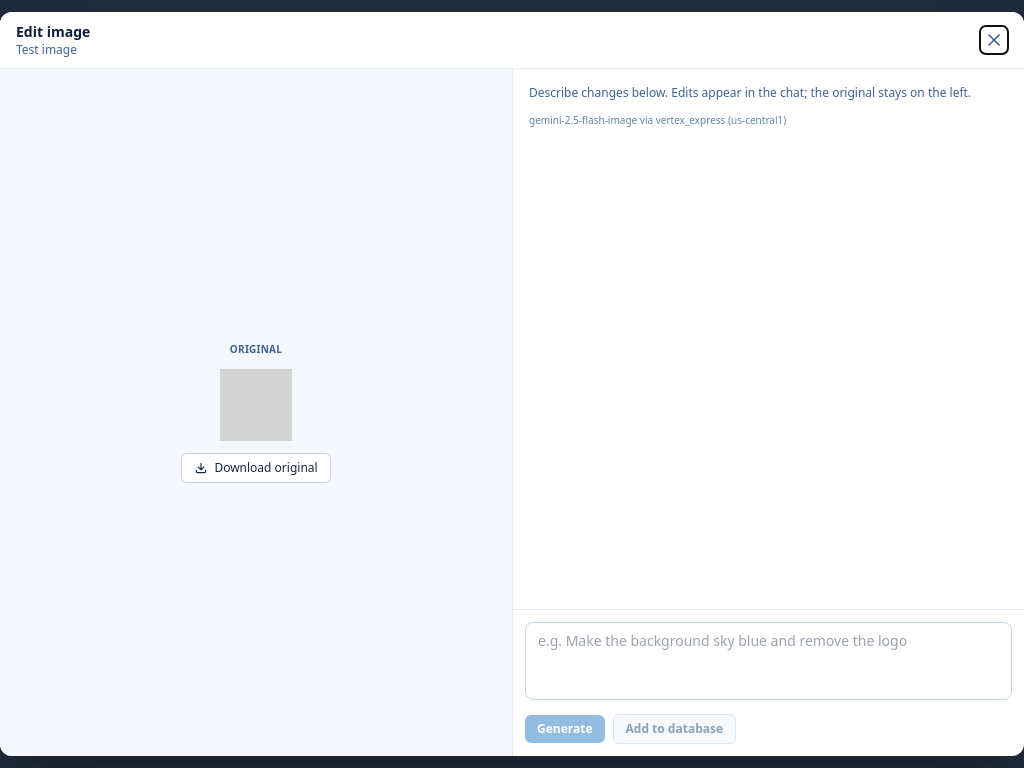
Test: ImageEditSession › keeps the prompt and shows the backend error
The image size is (1024, 768).
Type "make it blue" into the text box with test id "edit-prompt" at (768,661), box [525,622,1012,700]
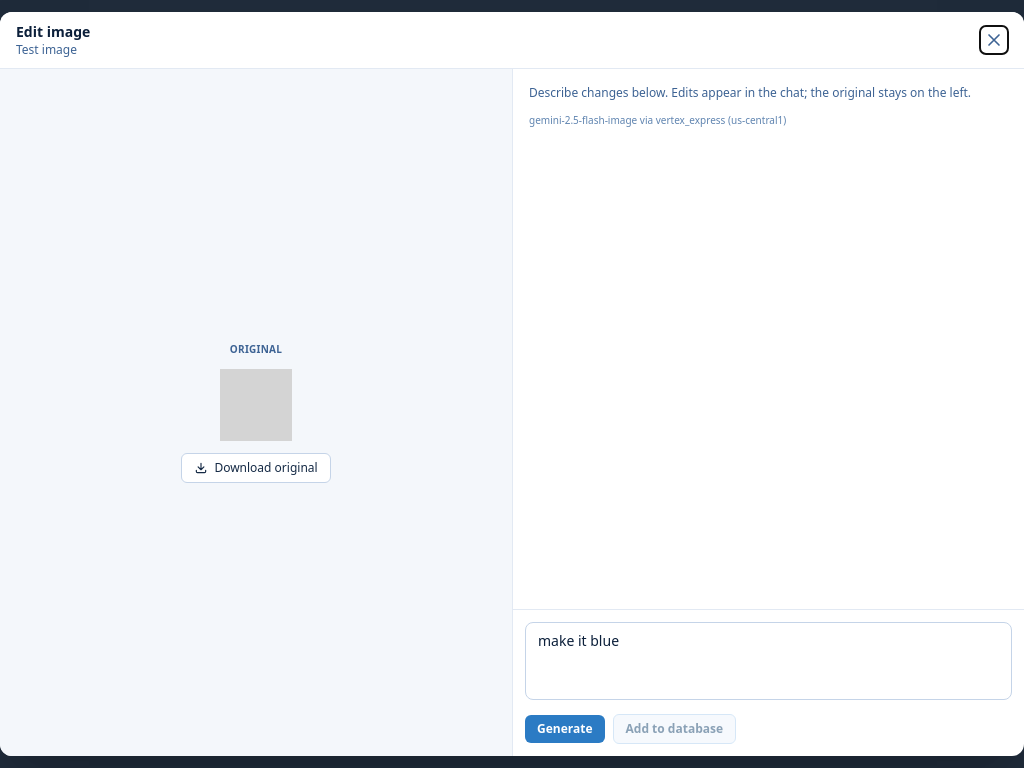
Click the button with test id "edit-send" at (565,729), box [525,715,604,743]
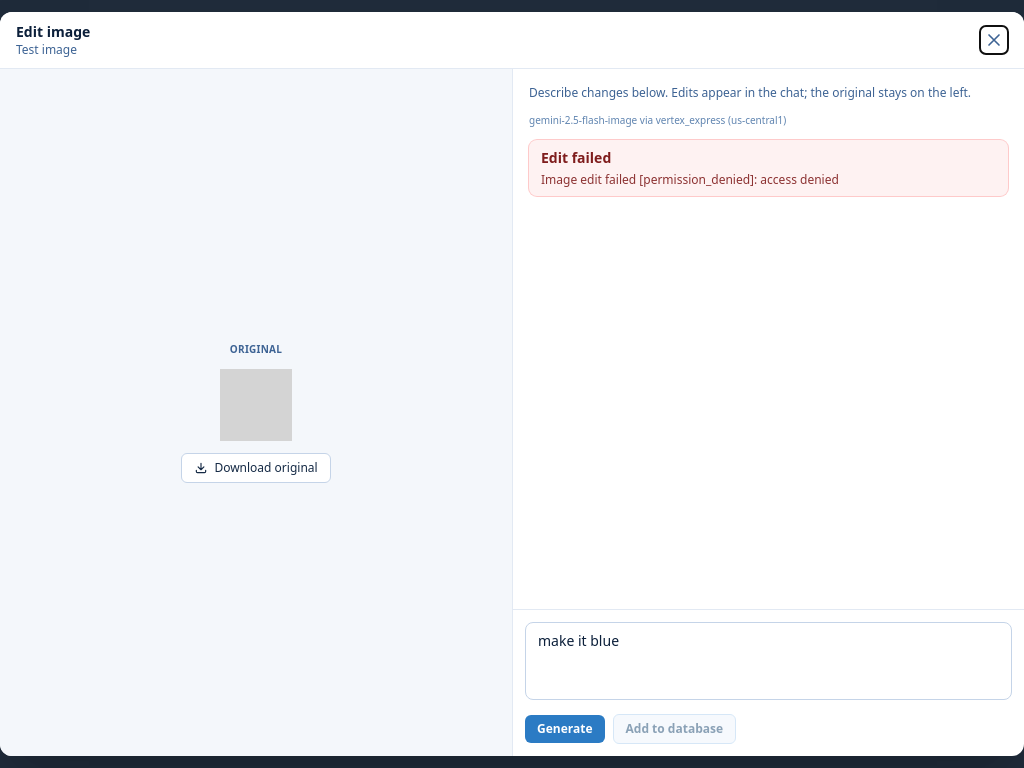
Check: the message with test id "edit-action-error-banner" shows "permission_denied", box [541,171,839,188]
